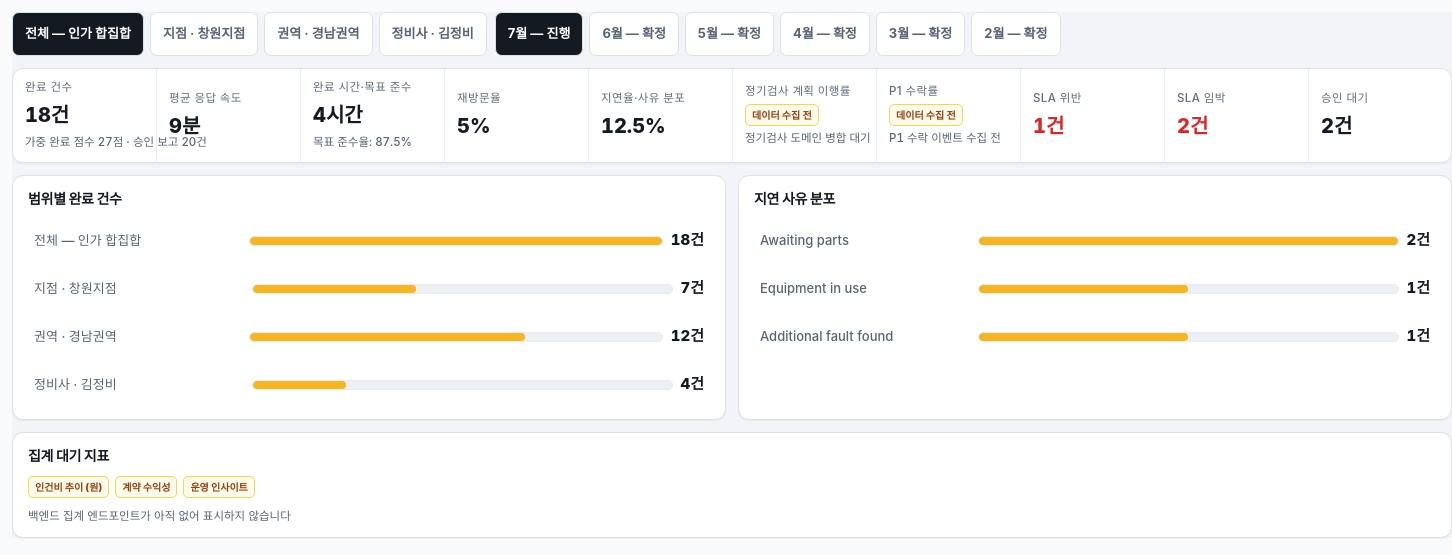
Test: DashboardScreen › charts scope completion and delay reasons on an honest scale with drills
Expected: the text "Awaiting parts" is shown, [760, 232, 849, 248]
Expected: the text "Additional fault found" is shown, [760, 328, 893, 344]
Note: Drilling a scope row selects that scope in the strip.
Click the button "정비사 · 김정비 4건" at x=369, y=384, box [28, 362, 710, 406]
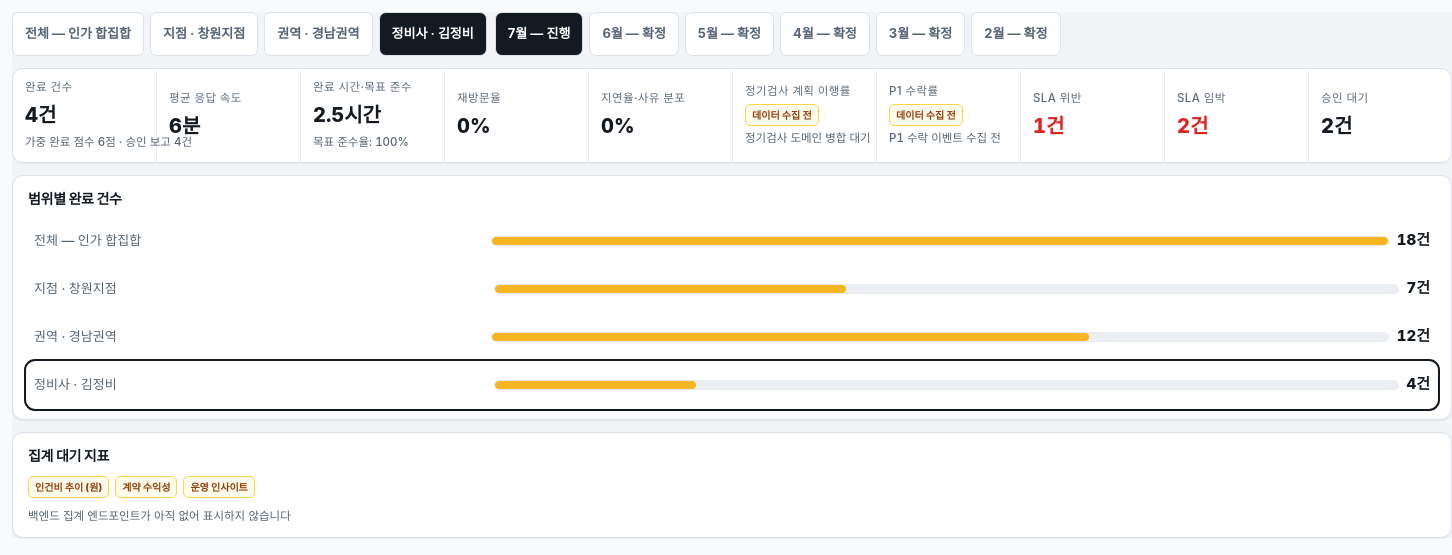
Expected: the text "승인 보고 4건" is shown, [25, 135, 192, 149]
